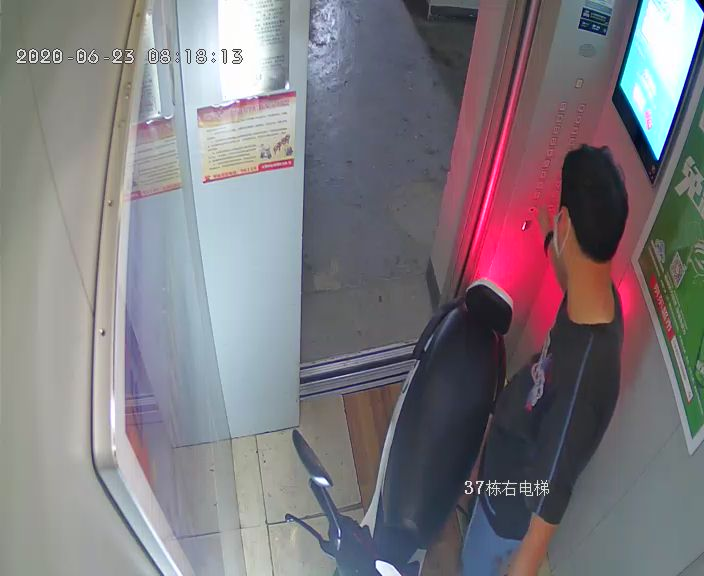Electric-bicycle: (281, 281, 515, 574)
